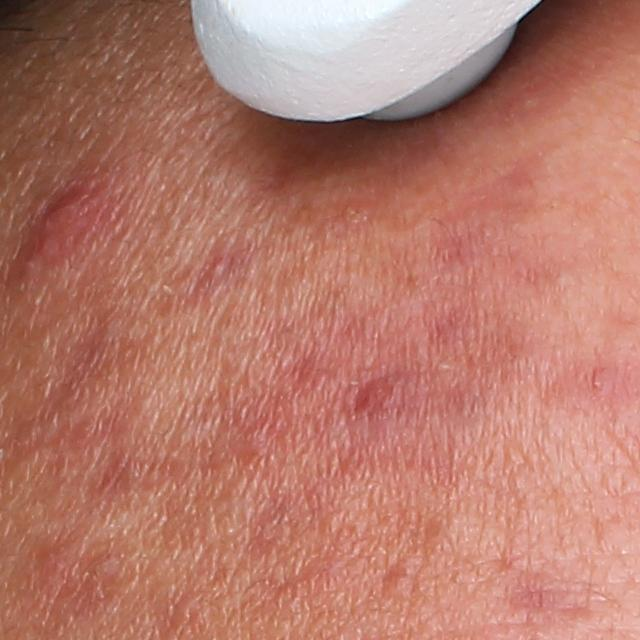atrophic_scar: (44, 315, 111, 415)
papule: (2, 171, 125, 291), (356, 373, 402, 418)
